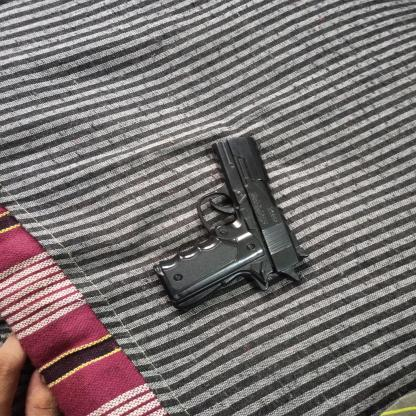handgun: (153, 129, 308, 312)
